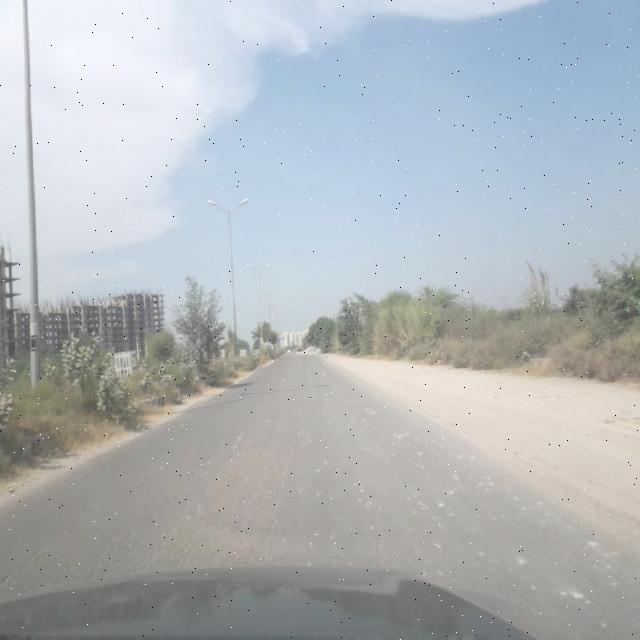D00: (265, 422, 299, 550), (1, 518, 58, 593)
D20: (66, 426, 308, 570)
